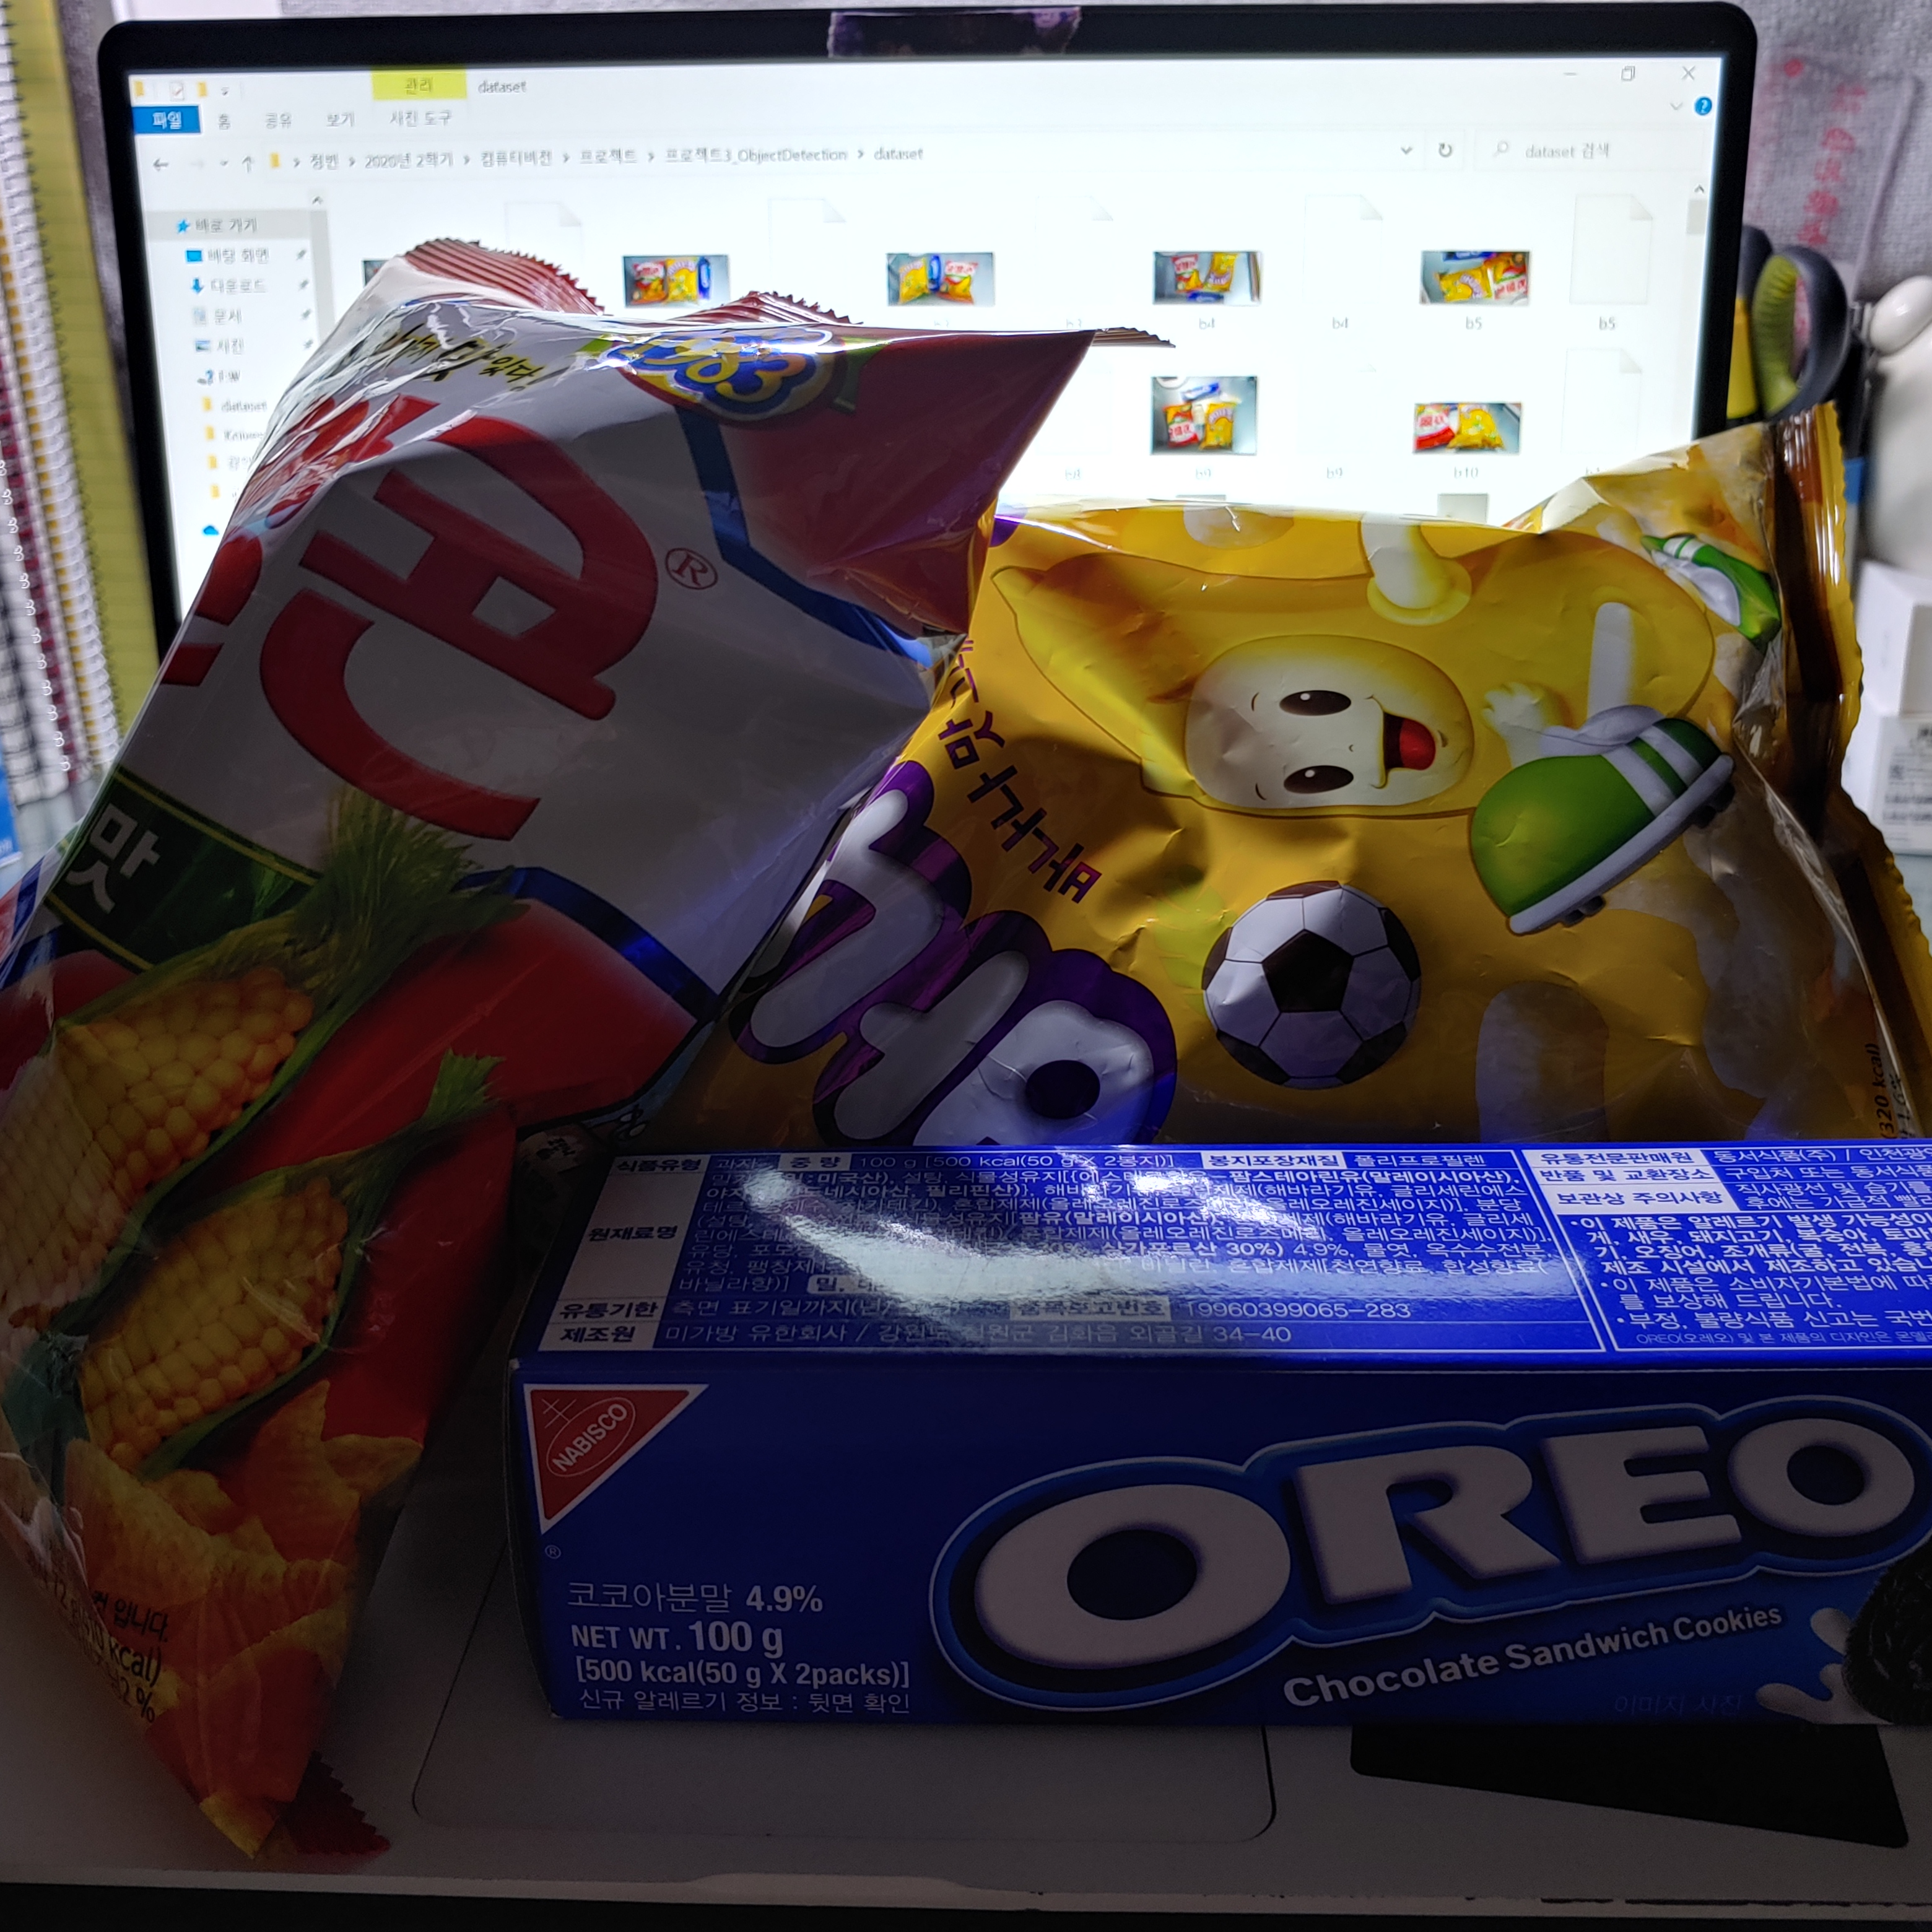banana: (642, 396, 1932, 1203)
ggoggalcon: (11, 166, 1152, 1932)
oreo: (449, 1072, 1932, 1782)
